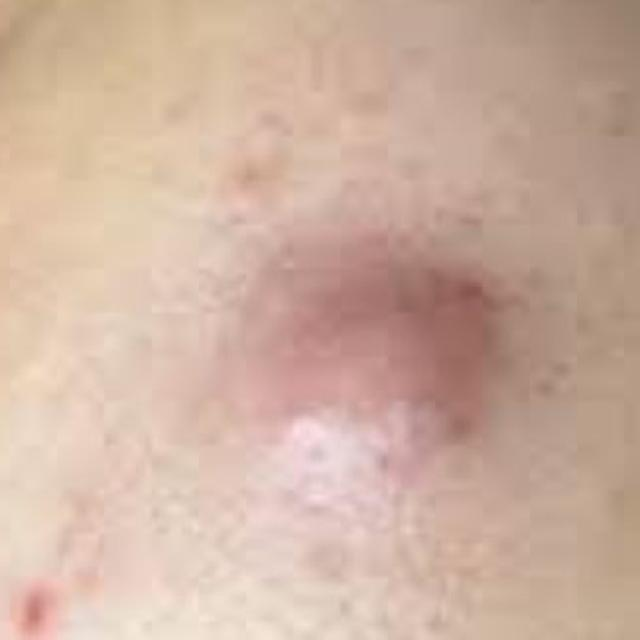nodule: (224, 224, 521, 545)
